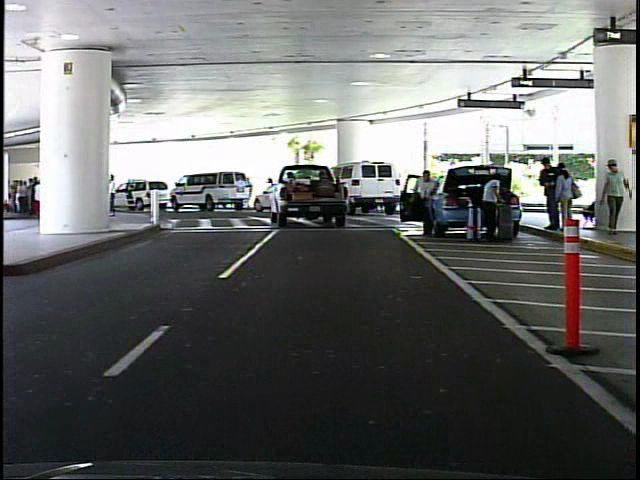person: (539, 153, 572, 238), (472, 169, 508, 246), (407, 164, 442, 238), (600, 156, 630, 237), (553, 158, 582, 238)
